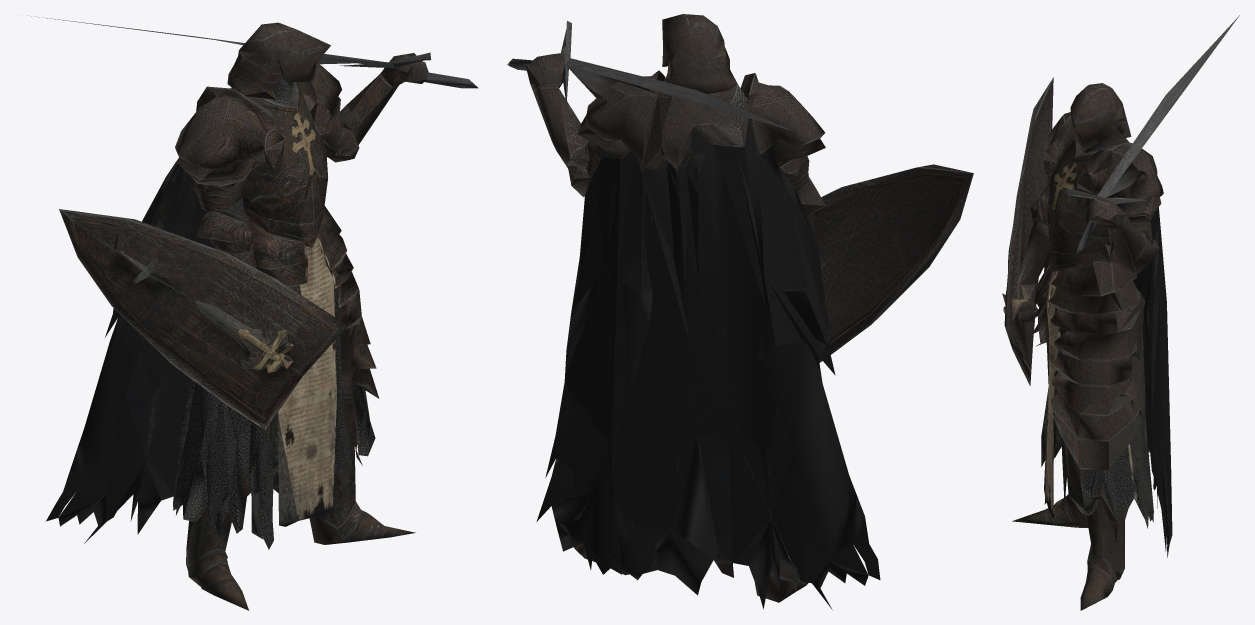
Rendered from paladin.glb.
3 renders of one model, left to right at view 1: azimuth 30°, elevation 25°; view 2: azimuth 150°, elevation 25°; view 3: azimuth 270°, elevation 25°, orthographic. The views are drawn at different scales.
Parts seen in each view (by area): view 1: Mesh_0; view 2: Mesh_0; view 3: Mesh_0.
Boxes of the visible parts, x1,y1,x2,y2 form: Mesh_0: (28,15,478,610); Mesh_0: (507,14,973,609); Mesh_0: (1002,15,1239,610).
Size of the model in its own units: 4.23 by 5 by 2.31.
1 material, 1 textured.
